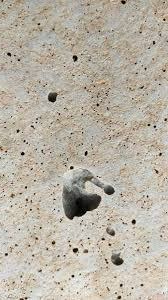Spalling: (1, 1, 168, 300), (62, 167, 115, 221)
